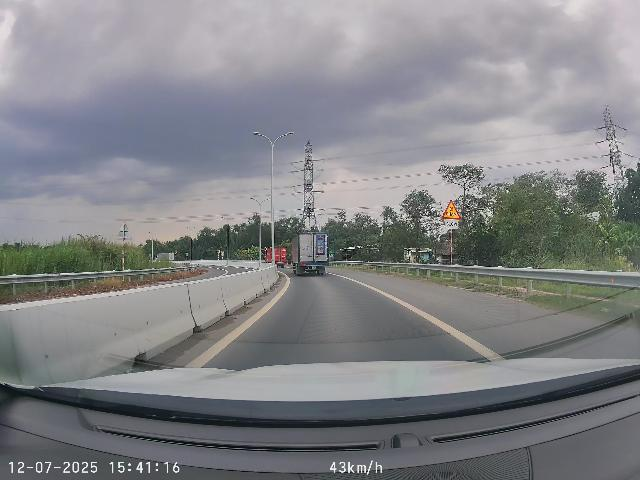245-di-cham: (442, 200, 461, 220)
